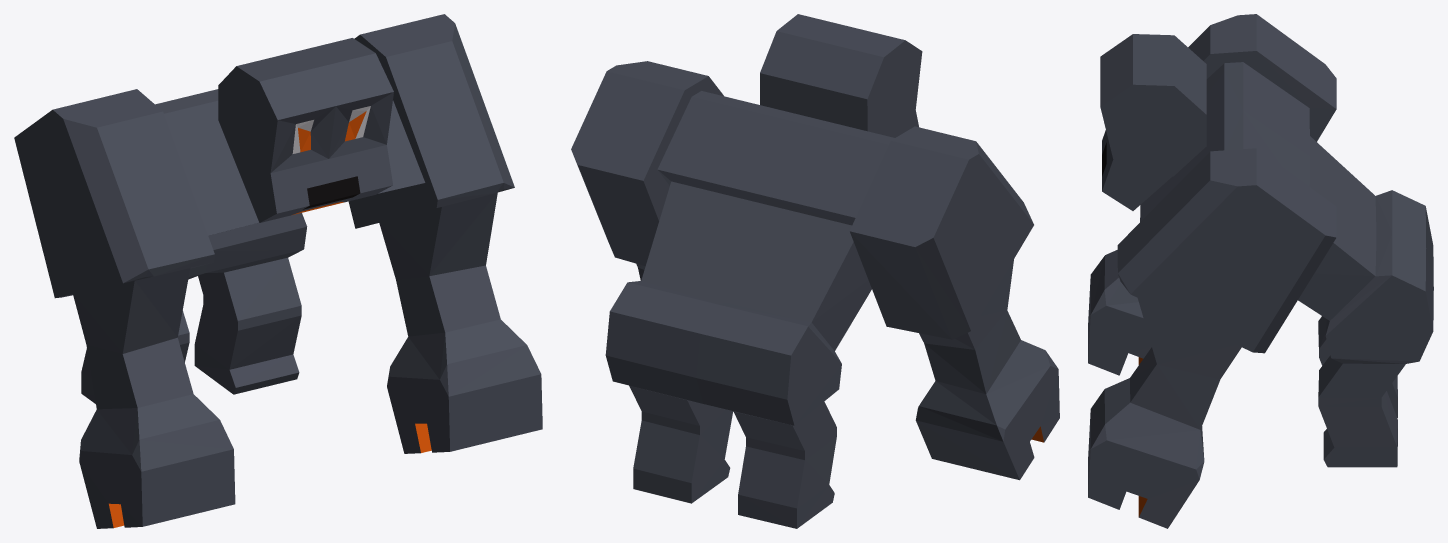
Rendered from kong_000001.obj.
The picture shows the model from 3 angles, left to right: view 1: azimuth 30°, elevation 25°; view 2: azimuth 150°, elevation 25°; view 3: azimuth 270°, elevation 25°; orthographic projection. The views are drawn at different scales.
Visible parts, largest first — view 1: Cube; view 2: Cube; view 3: Cube.
Part boxes in pixels (x1,y1,x2,y2): Cube: (14, 14, 542, 528); Cube: (571, 14, 1059, 528); Cube: (1088, 14, 1433, 528).
Size of the model in its own units: 5.84 by 5.92 by 4.86.
1 material, 1 textured.
